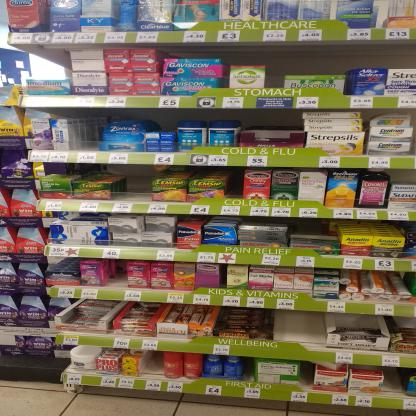Void: (278, 311, 323, 343), (245, 108, 299, 128), (119, 168, 149, 199), (77, 120, 98, 150), (142, 352, 161, 376), (227, 170, 242, 199), (152, 106, 170, 130), (109, 262, 126, 286), (296, 220, 324, 233), (268, 64, 283, 86), (393, 170, 416, 182)
